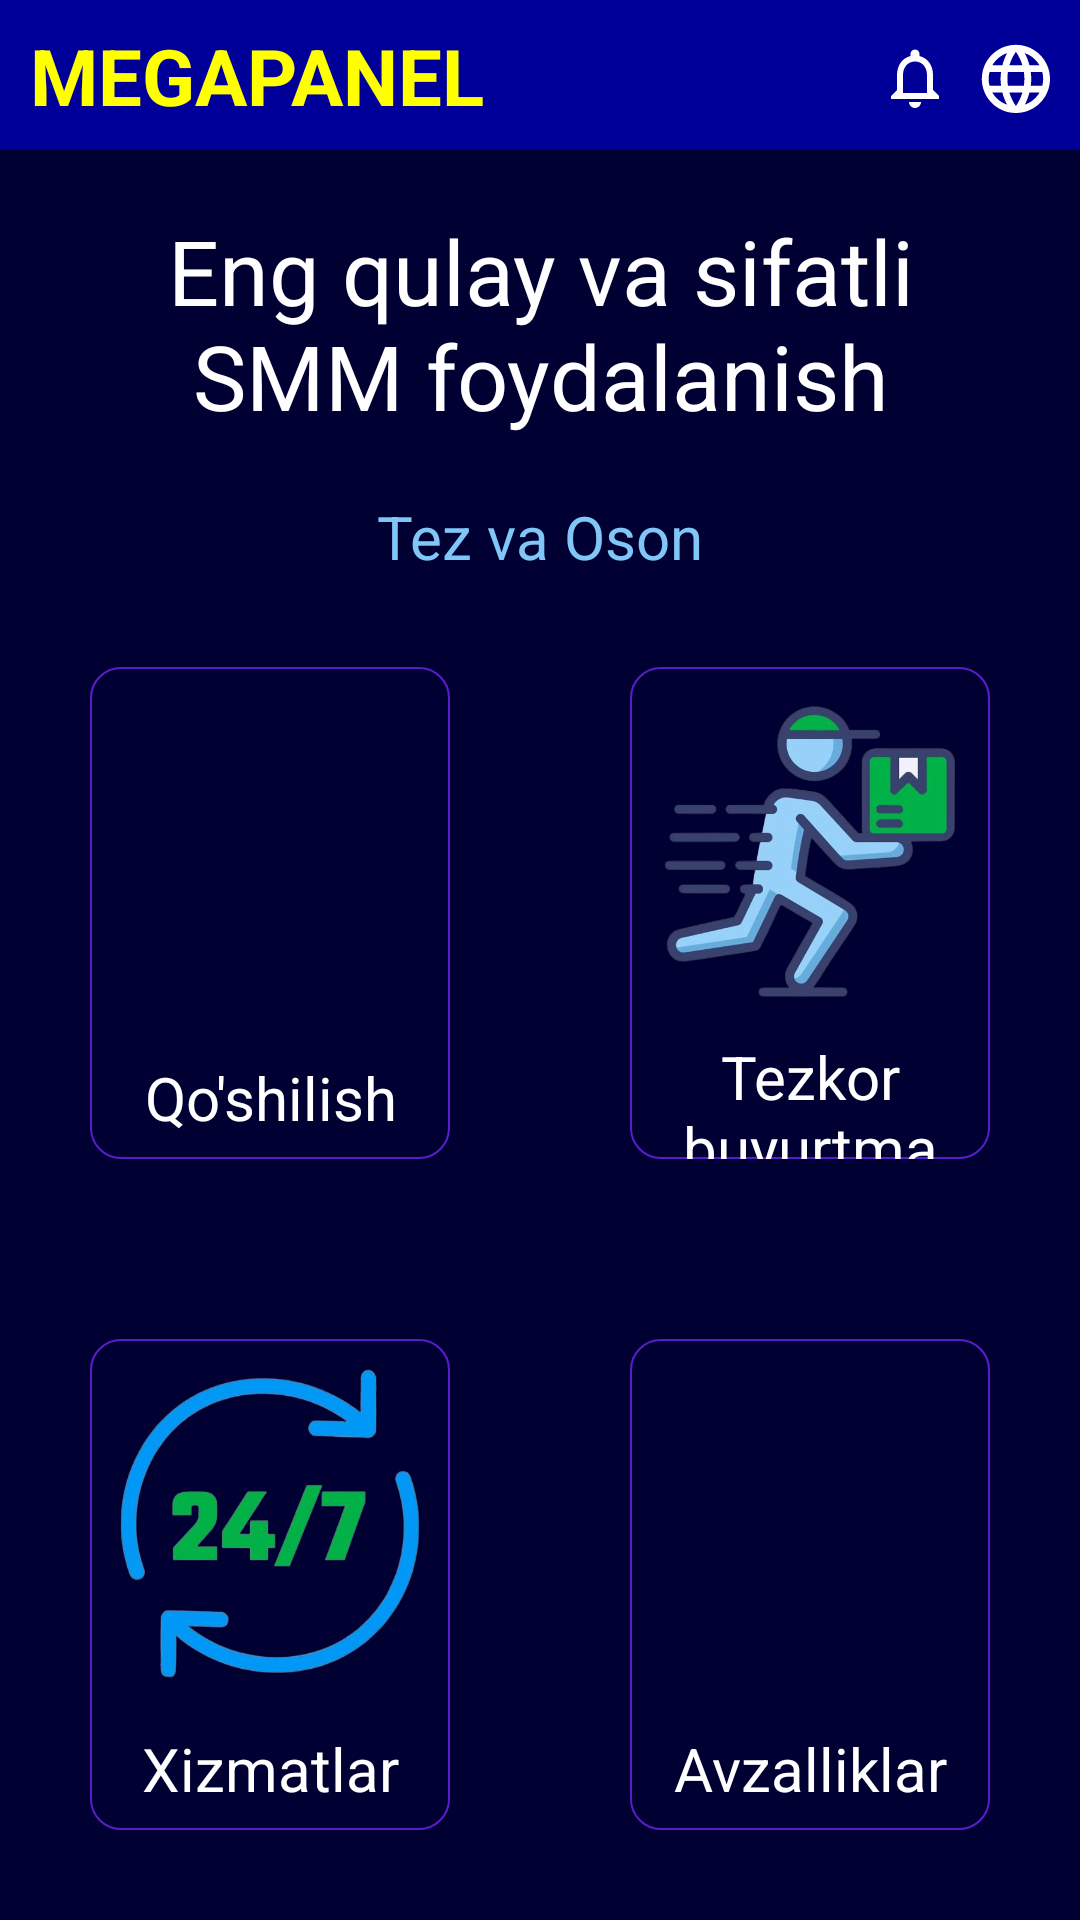

Screen size 1080*1920. Icon name, then its box in pixels as (x1, y1, x2, y2):
language: (981, 44, 1050, 113)
notifications none: (891, 49, 939, 108)
